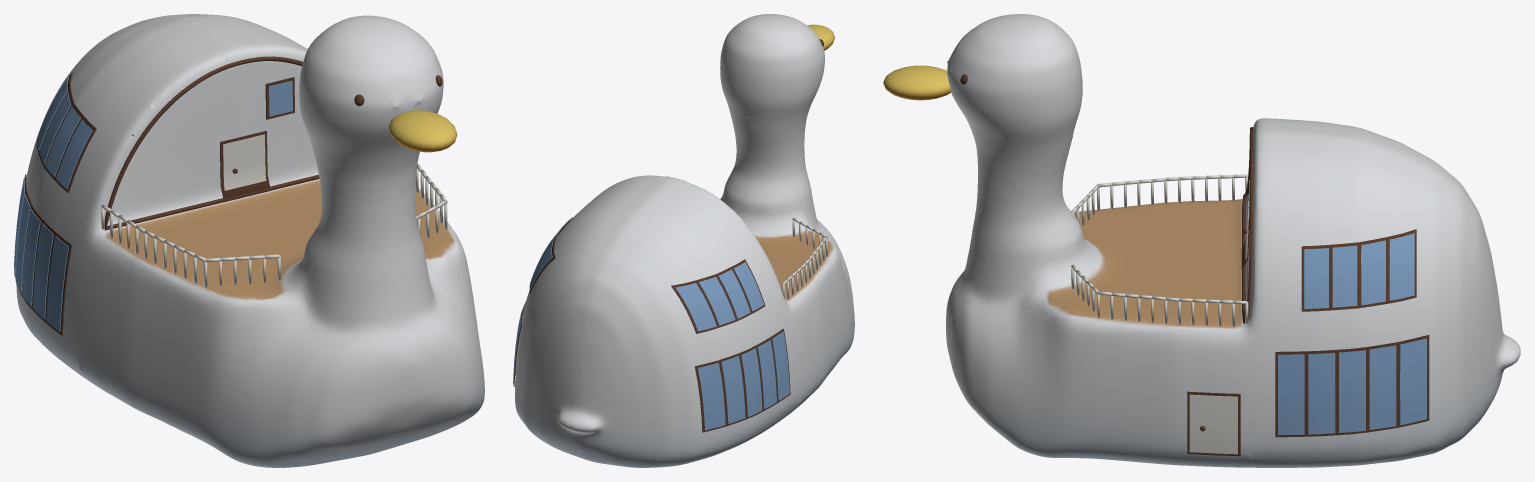
File: ferry.glb
The picture shows the model from 3 angles, left to right: view 1: azimuth 30°, elevation 25°; view 2: azimuth 150°, elevation 25°; view 3: azimuth 270°, elevation 25°; orthographic projection. The views are drawn at different scales.
Parts seen in each view (by area): view 1: ferry, ferry_glow; view 2: ferry, ferry_glow; view 3: ferry, ferry_glow.
Part boxes in pixels (x1,y1,x2,y2): ferry: (16, 14, 484, 467); ferry_glow: (14, 77, 292, 332); ferry: (513, 14, 854, 467); ferry_glow: (513, 219, 789, 430); ferry: (883, 14, 1520, 467); ferry_glow: (1248, 179, 1426, 435).
Size of the model in its own units: 9.68 by 12.1 by 17.4.
